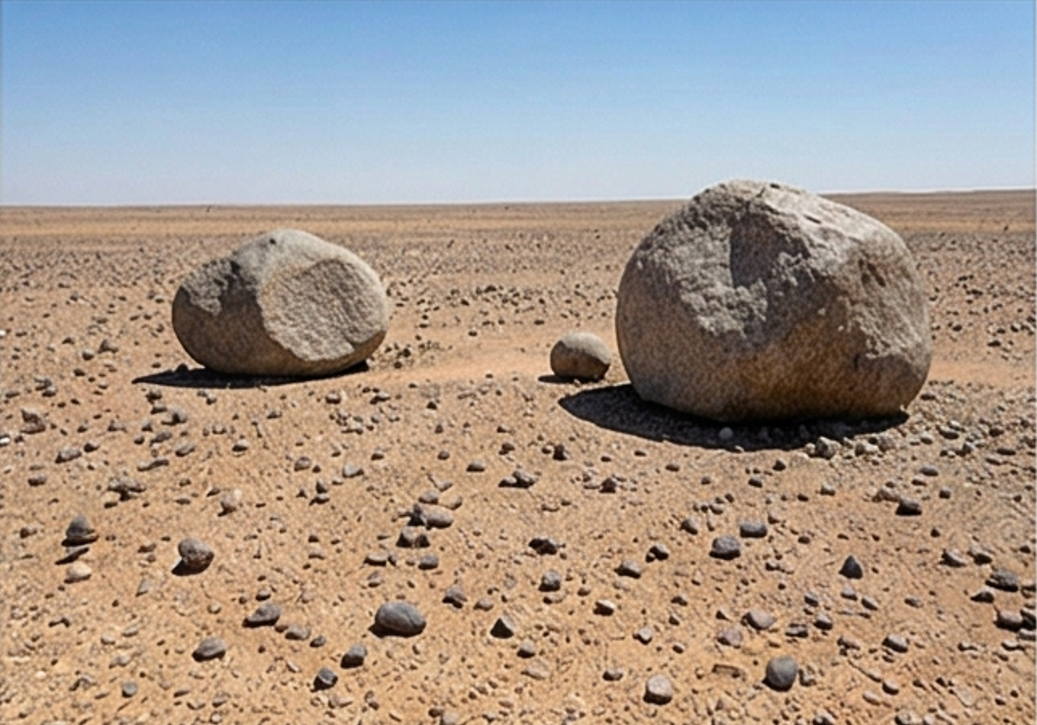rocks: (617, 180, 930, 421), (173, 229, 389, 376), (550, 333, 610, 379)
